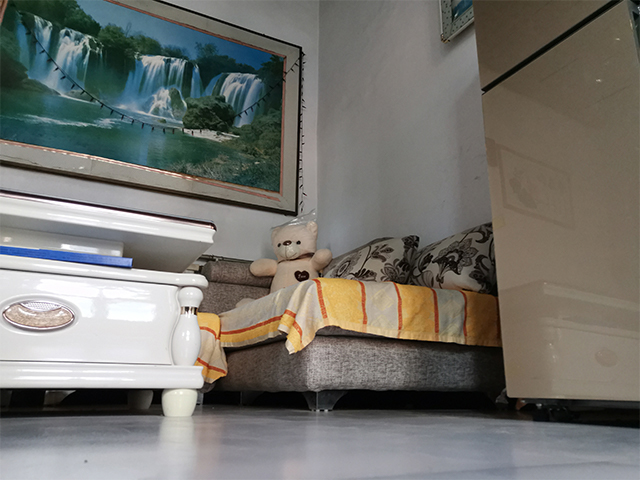sofa: (194, 218, 508, 413)
stool: (1, 186, 218, 419)
